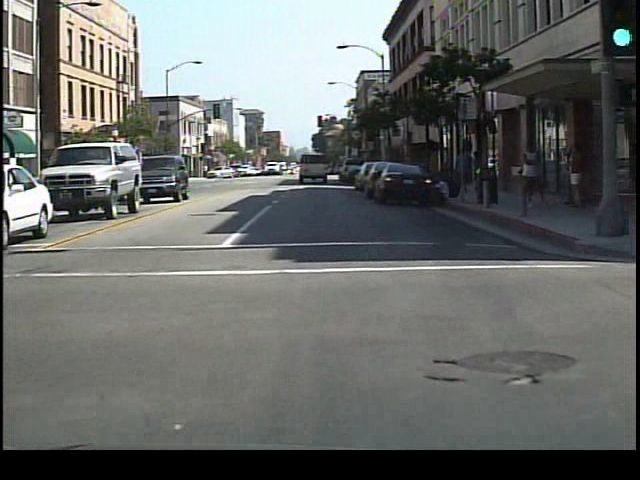person: (515, 135, 550, 220), (452, 142, 474, 200)
